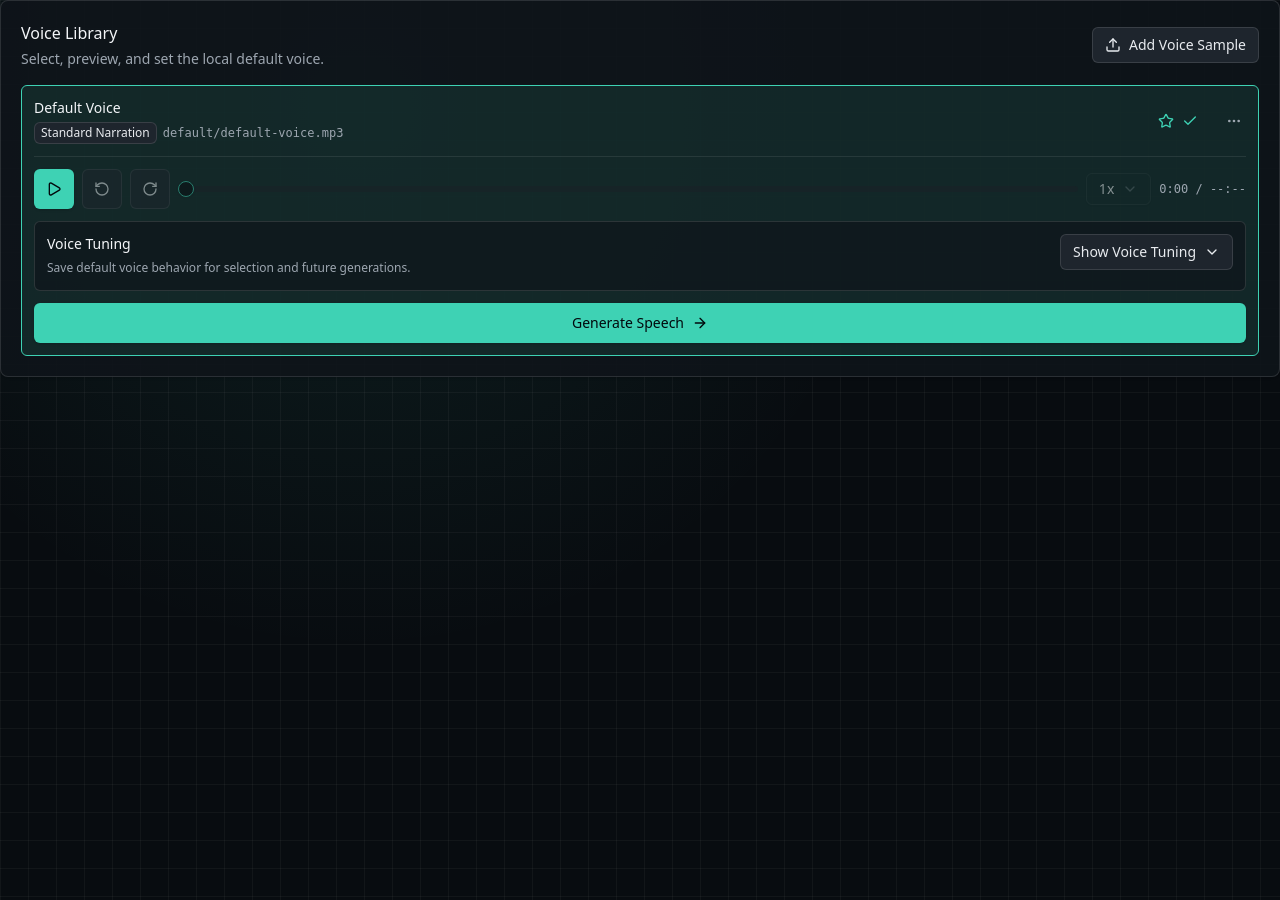
Test case: VoiceLibraryPanel voice tuning › resets voice tuning sliders to provider default values
Click the button "Show Voice Tuning" at (1147, 252), box [1060, 234, 1233, 270]
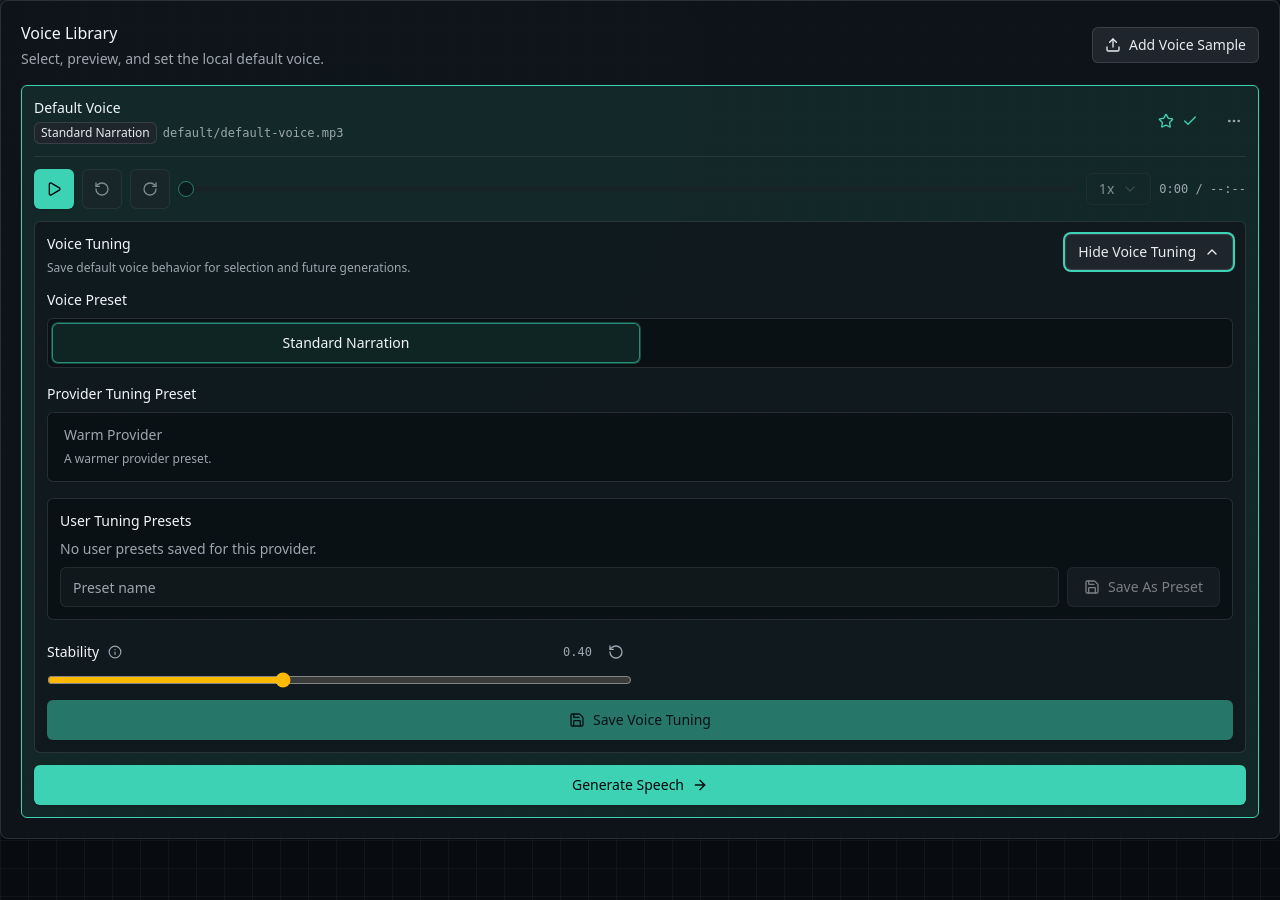
Expected: the button named "Reset Stability To Nominal" is enabled
Click the button named "Reset Stability To Nominal" at (616, 652), box [600, 636, 632, 668]
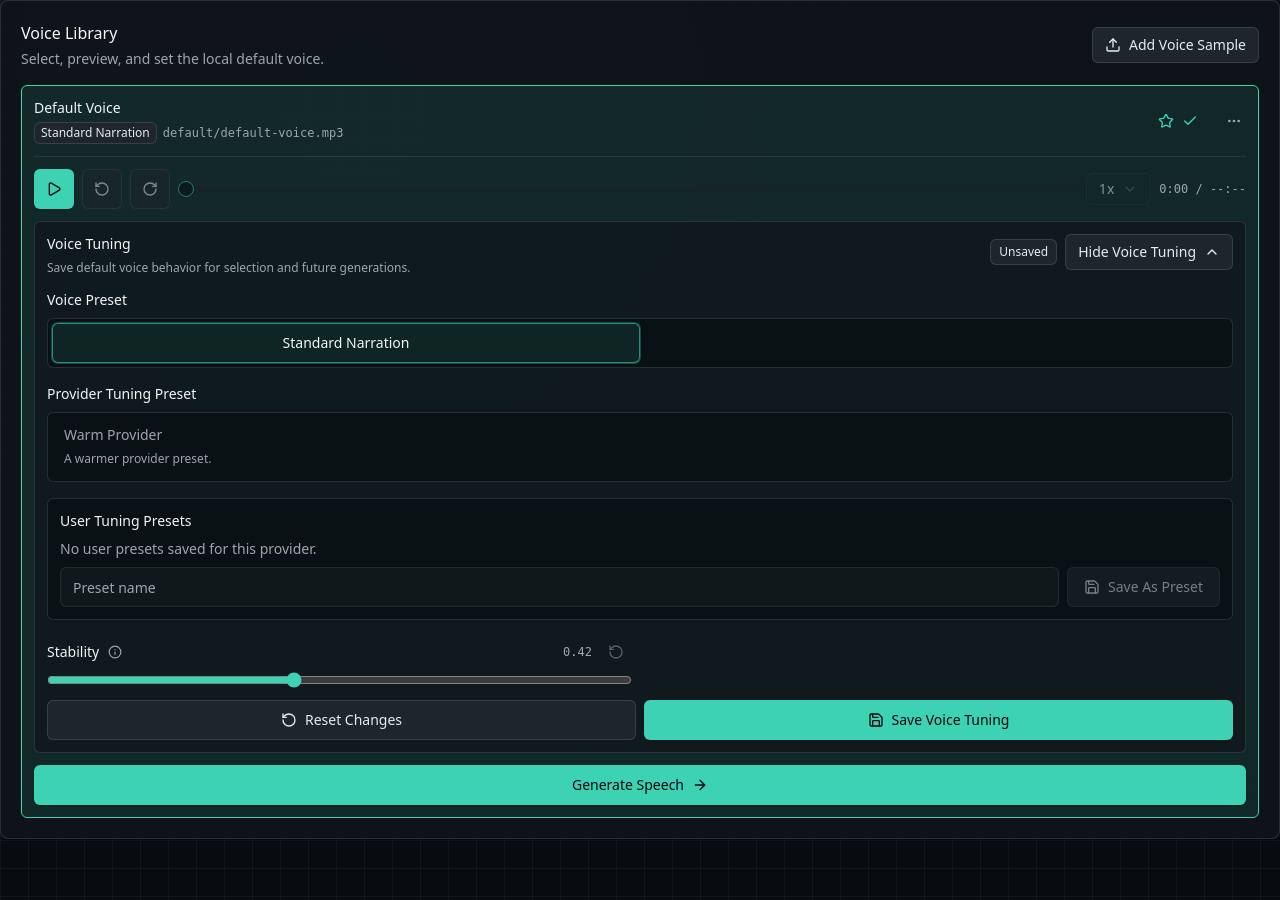
Expected: the slider labelled "Stability" holds "0.42", [47, 676, 632, 684]
Expected: the button named "Reset Stability To Nominal" is disabled, [600, 636, 632, 668]
